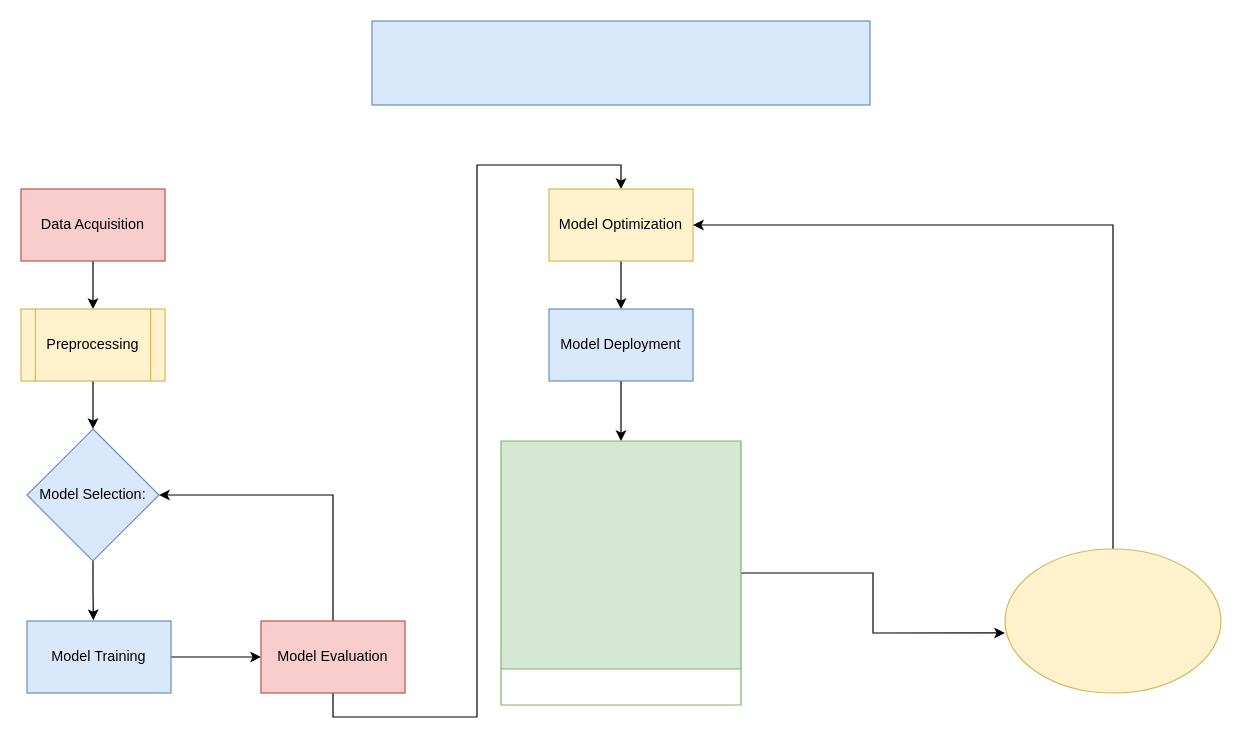
The diagram is 1242 pixels wide and 748 high, and some of its shapes have lost their labels. Each missing label, with the centre of its shape:
"Continuous Improvement:" goes at (x=1112, y=620).
"Extensive process flow diagram for Lung Cancer Detection" goes at (x=620, y=62).
"Integration with Electronic Health Records (EHRs):" goes at (x=620, y=572).
